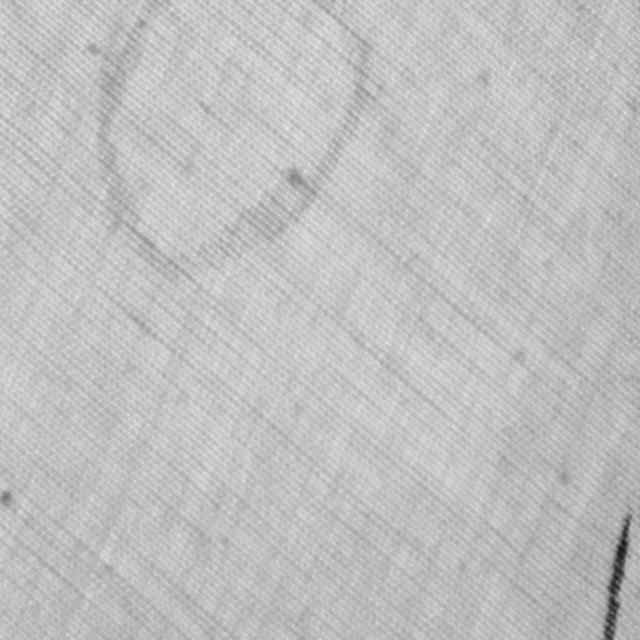oil spot: (92, 0, 376, 295), (598, 506, 637, 639)
